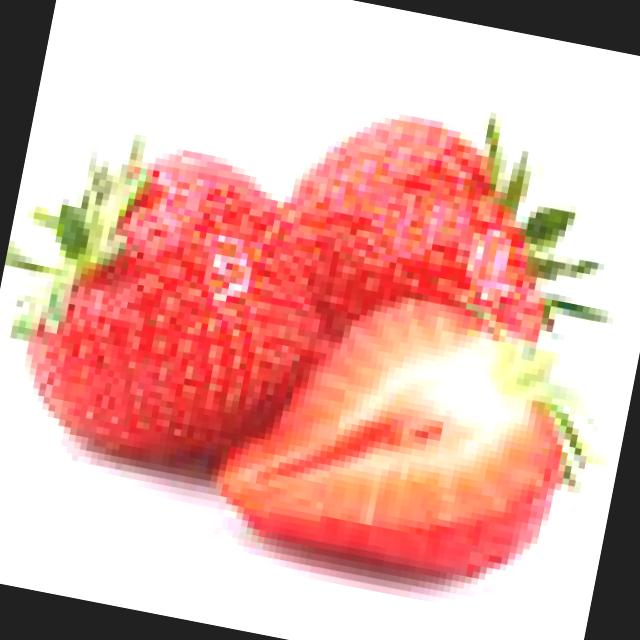tofu: (230, 268, 593, 601), (8, 141, 330, 486)
